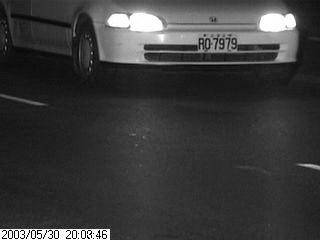plate: (195, 31, 240, 55)
